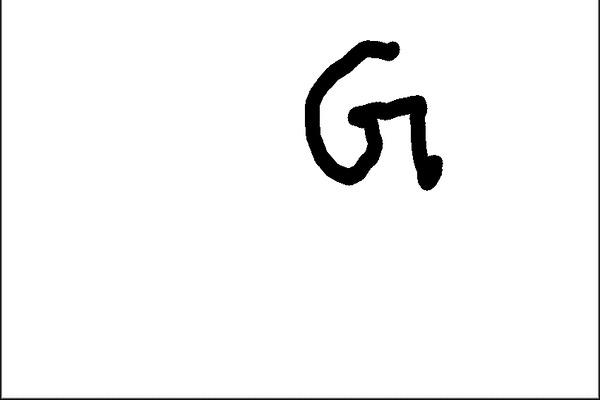G: (298, 37, 443, 194)
